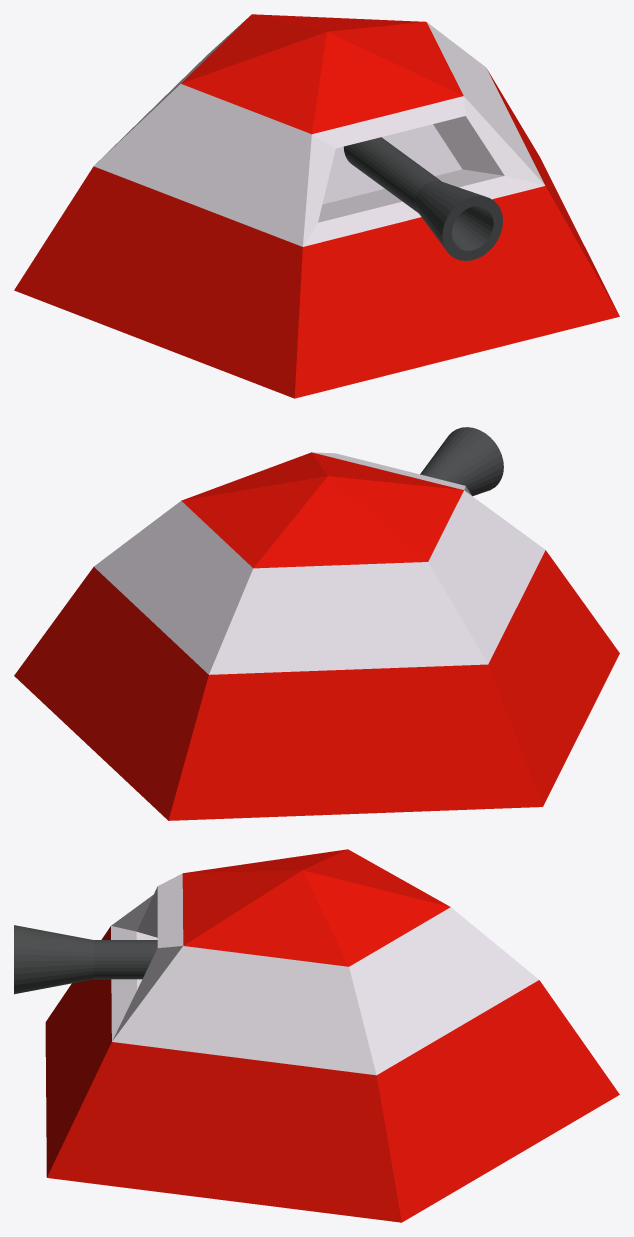
Rendered from Model_Defender_Short.fbx.
3 renders of one model, top to bottom at view 1: azimuth 30°, elevation 25°; view 2: azimuth 150°, elevation 25°; view 3: azimuth 270°, elevation 25°, orthographic.
Visible parts, largest first — view 1: Icosphere, Cylinder; view 2: Icosphere, Cylinder; view 3: Icosphere, Cylinder.
Boxes of the visible parts, x1=… form: Icosphere: x1=14, y1=14, x2=619, y2=398; Cylinder: x1=343, y1=137, x2=502, y2=260; Icosphere: x1=14, y1=452, x2=619, y2=820; Cylinder: x1=420, y1=427, x2=503, y2=496; Icosphere: x1=45, y1=849, x2=619, y2=1222; Cylinder: x1=14, y1=925, x2=157, y2=994.
Size of the model in its own units: 214 by 90.21 by 215.
